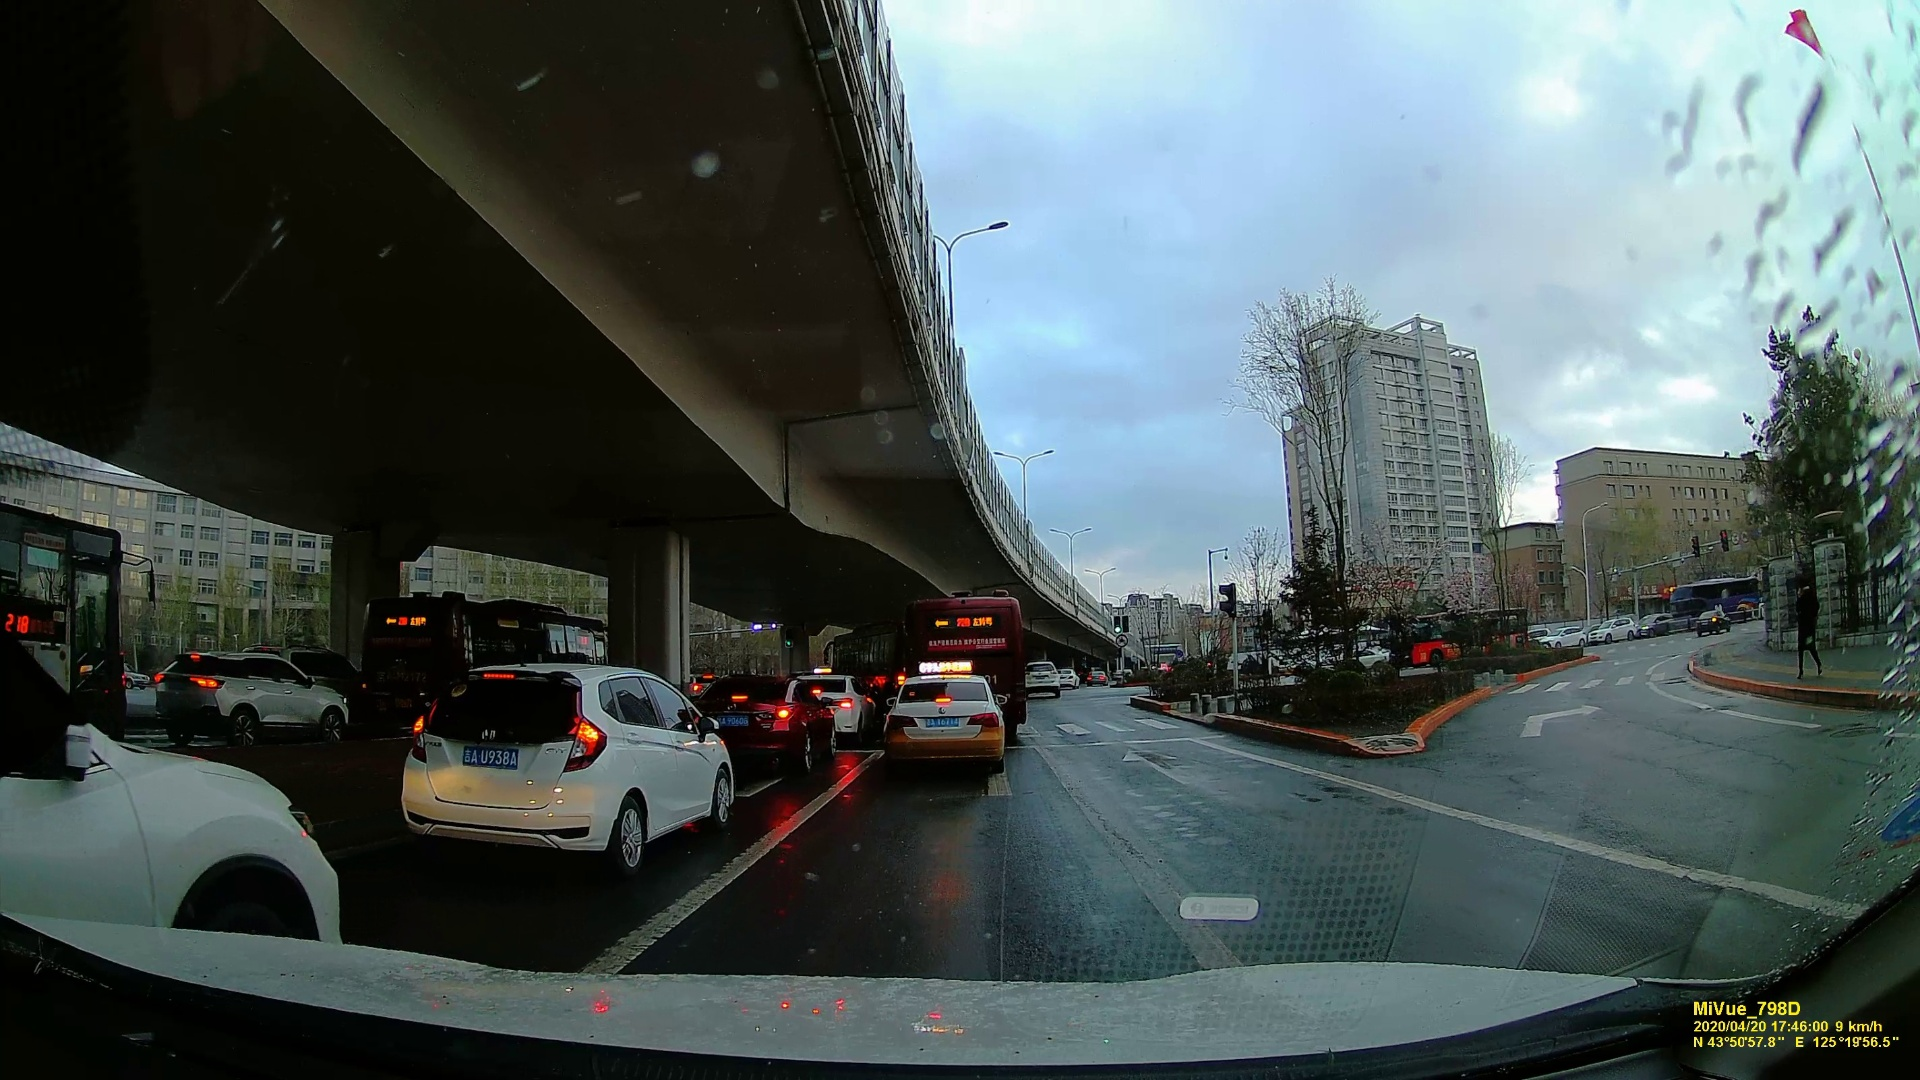bus: (908, 598, 1018, 730), (1669, 583, 1761, 623)
person: (1789, 592, 1825, 680)
traffic_sign: (1221, 582, 1239, 615), (1690, 534, 1701, 560), (1114, 634, 1128, 647), (1112, 616, 1121, 633)
vehicle: (411, 655, 729, 877), (150, 650, 353, 748), (690, 674, 831, 769), (877, 671, 1003, 774), (788, 673, 869, 738), (1588, 618, 1635, 645), (1026, 661, 1059, 698), (1695, 612, 1729, 633)
